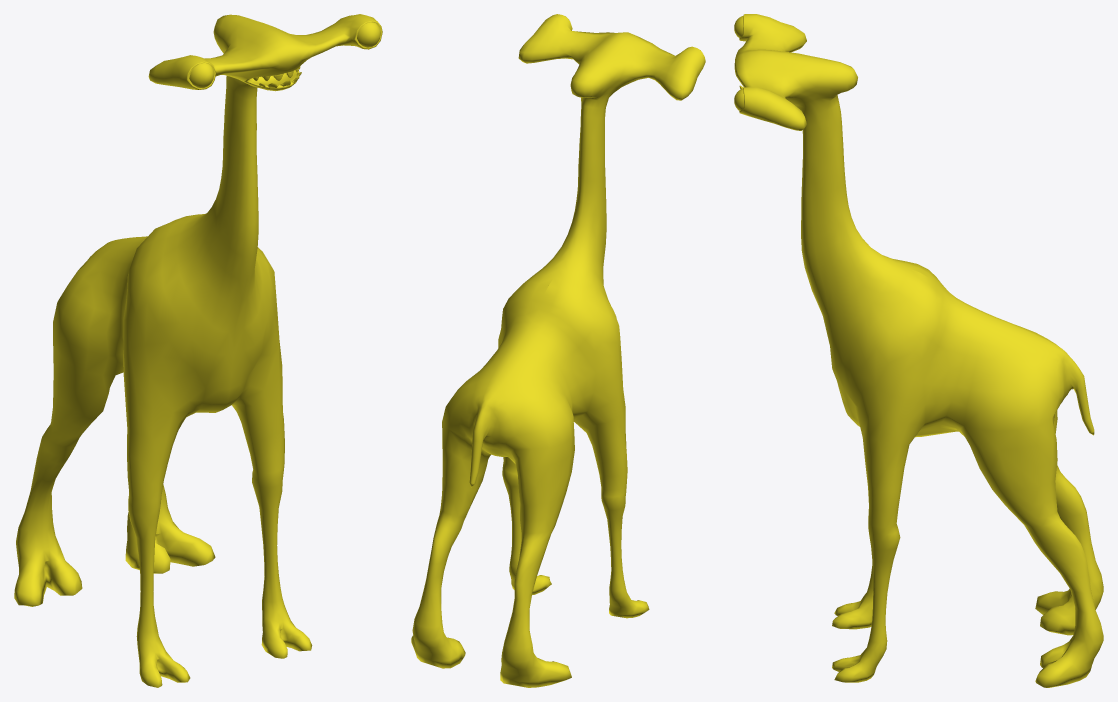
Rendered from Shrff_ForDetail.fbx.
The picture shows the model from 3 angles, left to right: view 1: azimuth 30°, elevation 25°; view 2: azimuth 150°, elevation 25°; view 3: azimuth 270°, elevation 25°; orthographic projection. The views are drawn at different scales.
Parts seen in each view (by area): view 1: Sharaffe_GEO; view 2: Sharaffe_GEO; view 3: Sharaffe_GEO.
Part boxes in pixels (x1,y1,x2,y2): Sharaffe_GEO: [14, 14, 382, 687]; Sharaffe_GEO: [411, 14, 705, 687]; Sharaffe_GEO: [734, 14, 1103, 687].
Bounding box in the file's own units: 2.31 × 6.98 × 3.92.
